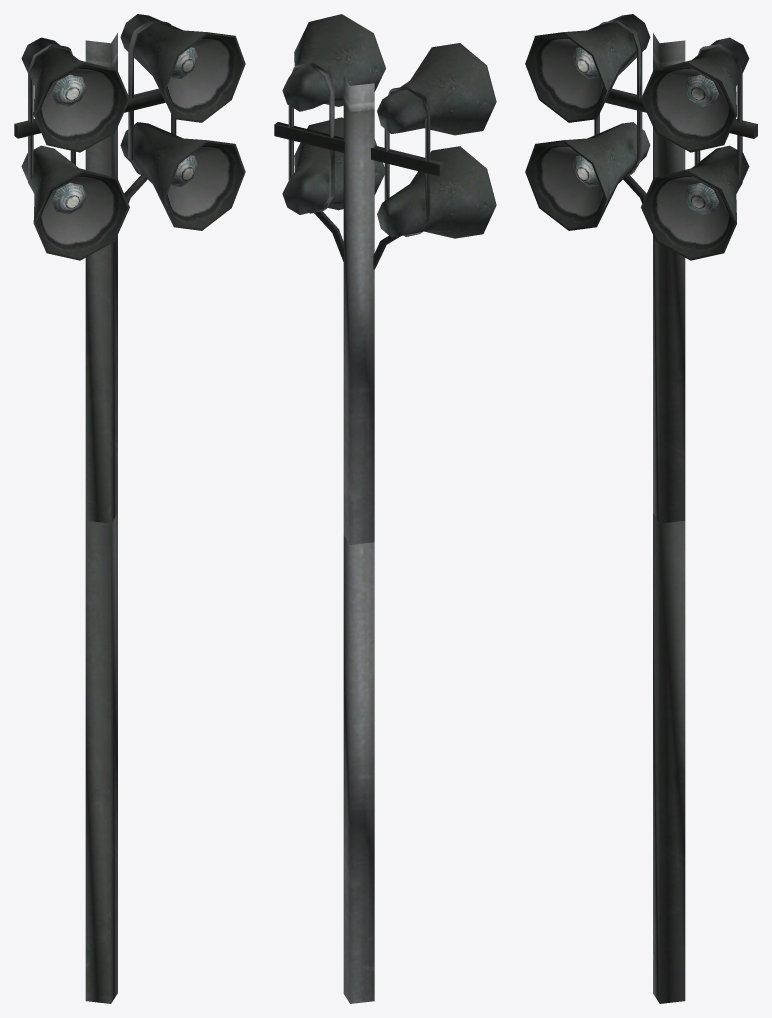
The model's file is Prop_Dj02.glb.
The picture shows the model from 3 angles, left to right: view 1: azimuth 30°, elevation 25°; view 2: azimuth 150°, elevation 25°; view 3: azimuth 330°, elevation 25°; orthographic projection. The views are drawn at different scales.
Visible parts, largest first — view 1: pvp_legionwar_dj02; view 2: pvp_legionwar_dj02; view 3: pvp_legionwar_dj02.
Boxes of the visible parts, x1,y1,x2,y2 form: pvp_legionwar_dj02: (14,14,245,1003); pvp_legionwar_dj02: (274,14,496,1003); pvp_legionwar_dj02: (525,14,757,1003).
Bounding box in the file's own units: 2 × 8.83 × 1.03.
Materials: 1 (1 with a texture image).
